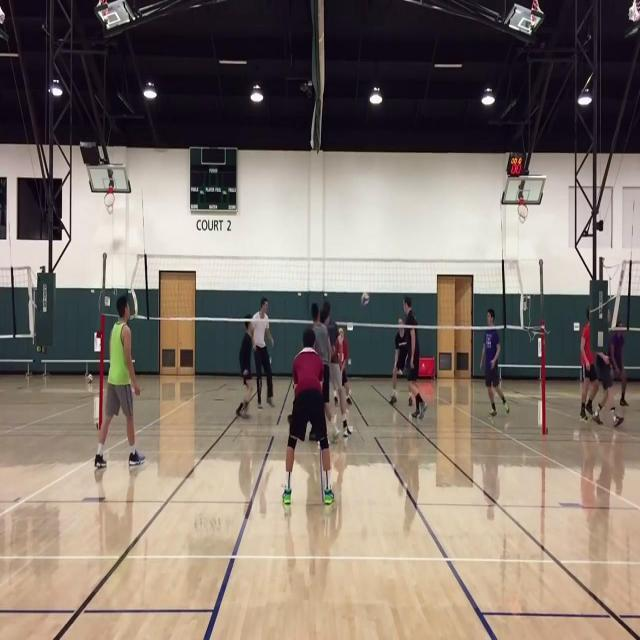volleyball: (361, 293, 370, 305)
